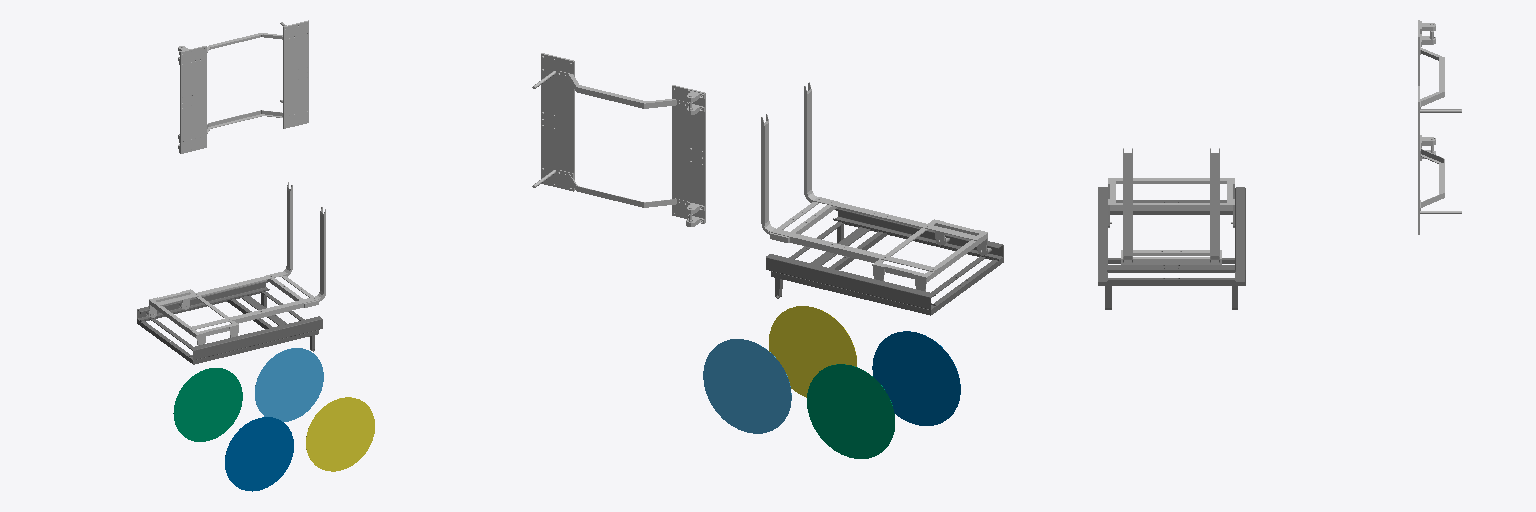
robot.urdf — prototype2:
<?xml version="1.0" encoding="utf-8"?>
<!-- =================================================================================== -->
<!-- |    This document was autogenerated by xacro from mobileman_rviz.xacro           | -->
<!-- |    EDITING THIS FILE BY HAND IS NOT RECOMMENDED                                 | -->
<!-- =================================================================================== -->
<robot name="prototype2">
  <link name="base_link">
    <!-- <inertial>
      <origin
        xyz="-0.22833 -0.0010016 0.042759"
        rpy="0 0 0" />
      <mass
        value="180" />
      <inertia
        ixx="0.65386"
        ixy="4.200"
        ixz="2.0031"
        iyy="1.3175"
        iyz="1.5"
        izz="1.4532" />
    </inertial> -->
    <visual>
      <origin rpy="0 0 0" xyz="0 0 0"/>
      <geometry>
        <mesh filename="package://mobileman_simulation/meshes/base_link.STL"/>
      </geometry>
      <material name="">
        <color rgba="0.75294 0.75294 0.75294 1"/>
      </material>
    </visual>
    <collision>
      <origin rpy="0 0 0" xyz="0 0 0"/>
      <geometry>
        <box size="0.370 0.832 0.320"/>
      </geometry>
    </collision>
  </link>
  <link name="front_left_link">
    <inertial>
      <mass value="0.2"/>
      <origin rpy="1.57 0 0" xyz="0 0 0"/>
      <inertia ixx="0.01" ixy="0" ixz="0" iyy="0.1" iyz="0" izz="0.01"/>
    </inertial>
    <!-- <visual name="$(name)_visual"> -->
    <visual>
      <origin rpy="1.57 0 0" xyz="0 0 0"/>
      <geometry>
        <cylinder length="0.001" radius="0.2155"/>
      </geometry>
    </visual>
    <!-- <collision name="$(name)_collision"> -->
    <collision>
      <origin rpy="1.57 0 0" xyz="0 0 0"/>
      <geometry>
        <cylinder length="0.085" radius="0.2255"/>
      </geometry>
    </collision>
  </link>
  <joint name="front_left_joint" type="continuous">
    <origin rpy="0 0 0" xyz="0.252 0.257 -0.05"/>
    <child link="front_left_link"/>
    <parent link="base_link"/>
    <axis rpy="0 0 0" xyz="0 1 0"/>
    <limit effort="10000" velocity="1000"/>
    <joint_properties damping="1.0" friction="1.0"/>
  </joint>
  <link name="front_right_link">
    <inertial>
      <mass value="0.2"/>
      <origin rpy="1.57 0 0" xyz="0 0 0"/>
      <inertia ixx="0.01" ixy="0" ixz="0" iyy="0.1" iyz="0" izz="0.01"/>
    </inertial>
    <!-- <visual name="$(name)_visual"> -->
    <visual>
      <origin rpy="1.57 0 0" xyz="0 0 0"/>
      <geometry>
        <cylinder length="0.001" radius="0.2155"/>
      </geometry>
    </visual>
    <!-- <collision name="$(name)_collision"> -->
    <collision>
      <origin rpy="1.57 0 0" xyz="0 0 0"/>
      <geometry>
        <cylinder length="0.085" radius="0.2255"/>
      </geometry>
    </collision>
  </link>
  <joint name="front_right_joint" type="continuous">
    <origin rpy="0 0 0" xyz="-0.252 0.257 -0.05"/>
    <child link="front_right_link"/>
    <parent link="base_link"/>
    <axis rpy="0 0 0" xyz="0 1 0"/>
    <limit effort="10000" velocity="1000"/>
    <joint_properties damping="1.0" friction="1.0"/>
  </joint>
  <link name="rear_left_link">
    <inertial>
      <mass value="0.2"/>
      <origin rpy="1.57 0 0" xyz="0 0 0"/>
      <inertia ixx="0.01" ixy="0" ixz="0" iyy="0.1" iyz="0" izz="0.01"/>
    </inertial>
    <!-- <visual name="$(name)_visual"> -->
    <visual>
      <origin rpy="1.57 0 0" xyz="0 0 0"/>
      <geometry>
        <cylinder length="0.001" radius="0.2155"/>
      </geometry>
    </visual>
    <!-- <collision name="$(name)_collision"> -->
    <collision>
      <origin rpy="1.57 0 0" xyz="0 0 0"/>
      <geometry>
        <cylinder length="0.085" radius="0.2255"/>
      </geometry>
    </collision>
  </link>
  <joint name="rear_left_joint" type="continuous">
    <origin rpy="0 0 0" xyz="0.252 -0.295 -0.12"/>
    <child link="rear_left_link"/>
    <parent link="base_link"/>
    <axis rpy="0 0 0" xyz="0 1 0"/>
    <limit effort="10000" velocity="1000"/>
    <joint_properties damping="1.0" friction="1.0"/>
  </joint>
  <link name="rear_right_link">
    <inertial>
      <mass value="0.2"/>
      <origin rpy="1.57 0 0" xyz="0 0 0"/>
      <inertia ixx="0.01" ixy="0" ixz="0" iyy="0.1" iyz="0" izz="0.01"/>
    </inertial>
    <!-- <visual name="$(name)_visual"> -->
    <visual>
      <origin rpy="1.57 0 0" xyz="0 0 0"/>
      <geometry>
        <cylinder length="0.001" radius="0.2155"/>
      </geometry>
    </visual>
    <!-- <collision name="$(name)_collision"> -->
    <collision>
      <origin rpy="1.57 0 0" xyz="0 0 0"/>
      <geometry>
        <cylinder length="0.085" radius="0.2255"/>
      </geometry>
    </collision>
  </link>
  <joint name="rear_right_joint" type="continuous">
    <origin rpy="0 0 0" xyz="-0.252 -0.295 -0.12"/>
    <child link="rear_right_link"/>
    <parent link="base_link"/>
    <axis rpy="0 0 0" xyz="0 1 0"/>
    <limit effort="10000" velocity="1000"/>
    <joint_properties damping="1.0" friction="1.0"/>
  </joint>
  <link name="Link1">
    <inertial>
      <origin rpy="0 0 0" xyz="0.30661 0.13018 0"/>
      <mass value="10.512"/>
      <inertia ixx="0.12168" ixy="-6.1853E-17" ixz="-1.0133E-15" iyy="0.36652" iyz="3.4411E-17" izz="0.25354"/>
    </inertial>
    <visual>
      <origin rpy="0 0 0" xyz="0 0 0"/>
      <geometry>
        <mesh filename="package://mobileman_simulation/meshes/Link1.STL"/>
      </geometry>
      <material name="">
        <color rgba="0.5 0.5 0.5 1"/>
      </material>
    </visual>
    <collision>
      <origin rpy="0 0 0" xyz="0 0 0"/>
      <geometry>
        <mesh filename="package://mobileman_simulation/meshes/Link1.STL"/>
      </geometry>
    </collision>
  </link>
  <joint name="fork_rotational_joint" type="revolute">
    <origin rpy="1.5708 0 -3.1416" xyz="0.0975 0 0.409"/>
    <parent link="base_link"/>
    <child link="Link1"/>
    <axis xyz="0 0 1"/>
    <limit effort="1000" lower="0" upper="1.57" velocity="0"/>
    <dynamics damping="10" friction="10"/>
  </joint>
  <link name="Link2">
    <inertial>
      <origin rpy="0 0 0" xyz="0 0.13165 -0.3945"/>
      <mass value="7.4392"/>
      <inertia ixx="0.26451" ixy="-4.5117E-15" ixz="-1.2876E-14" iyy="0.22881" iyz="-0.059461" izz="0.10508"/>
    </inertial>
    <visual>
      <origin rpy="0 0 0" xyz="0 0 0"/>
      <geometry>
        <mesh filename="package://mobileman_simulation/meshes/Link2.STL"/>
      </geometry>
      <material name="">
        <color rgba="0.75294 0.75294 0.75294 1"/>
      </material>
    </visual>
    <collision>
      <origin rpy="0 0 0" xyz="0 0 0"/>
      <geometry>
        <mesh filename="package://mobileman_simulation/meshes/Link2.STL"/>
      </geometry>
    </collision>
  </link>
  <joint name="fork_linear_joint" type="prismatic">
    <origin rpy="0 -1.5708 0" xyz="-0.12 0.158 0"/>
    <parent link="Link1"/>
    <child link="Link2"/>
    <!-- <axis xyz="-1 0 0" /> -->
    <axis xyz="0 0 1"/>
    <limit effort="1000" lower="0" upper="0.5" velocity="0"/>
  </joint>
  <!--IMU-->
  <!--Laser Scanner-->
</robot>

--- Render facts (derived) ---
3 views of the same robot in one strip: view 1: azimuth 30°, elevation 25°; view 2: azimuth 150°, elevation 25°; view 3: azimuth 270°, elevation 25° (orthographic).
Robot: prototype2 — 7 links, 6 joints (1 revolute, 4 continuous, 1 prismatic); root link base_link; default pose: all joints at 0.
Visible links, largest first — view 1: base_link, Link1, Link2, rear_right_link, rear_left_link, front_right_link, front_left_link; view 2: base_link, Link1, Link2, front_left_link, front_right_link, rear_right_link, rear_left_link; view 3: Link2, Link1, base_link.
Boxes of the visible links, box(x1,y1,x2,y2) form: base_link: box(178, 20, 308, 153); Link1: box(137, 281, 322, 364); Link2: box(146, 182, 325, 345); rear_right_link: box(225, 417, 293, 491); rear_left_link: box(306, 397, 374, 471); front_right_link: box(173, 368, 242, 441); front_left_link: box(255, 348, 323, 421); base_link: box(532, 53, 705, 226); Link1: box(766, 208, 1003, 315); Link2: box(761, 82, 991, 290); front_left_link: box(703, 339, 791, 433); front_right_link: box(807, 364, 894, 458); rear_right_link: box(872, 331, 960, 425); rear_left_link: box(769, 306, 856, 397); Link2: box(1108, 148, 1234, 264); Link1: box(1098, 187, 1245, 309); base_link: box(1418, 20, 1461, 234).
Size in the robot's own frame: 1.48 by 1.5 by 2.01 metres.
Meshes: 3 distinct files referenced, 3 mesh visuals loaded (3 binary STL).
